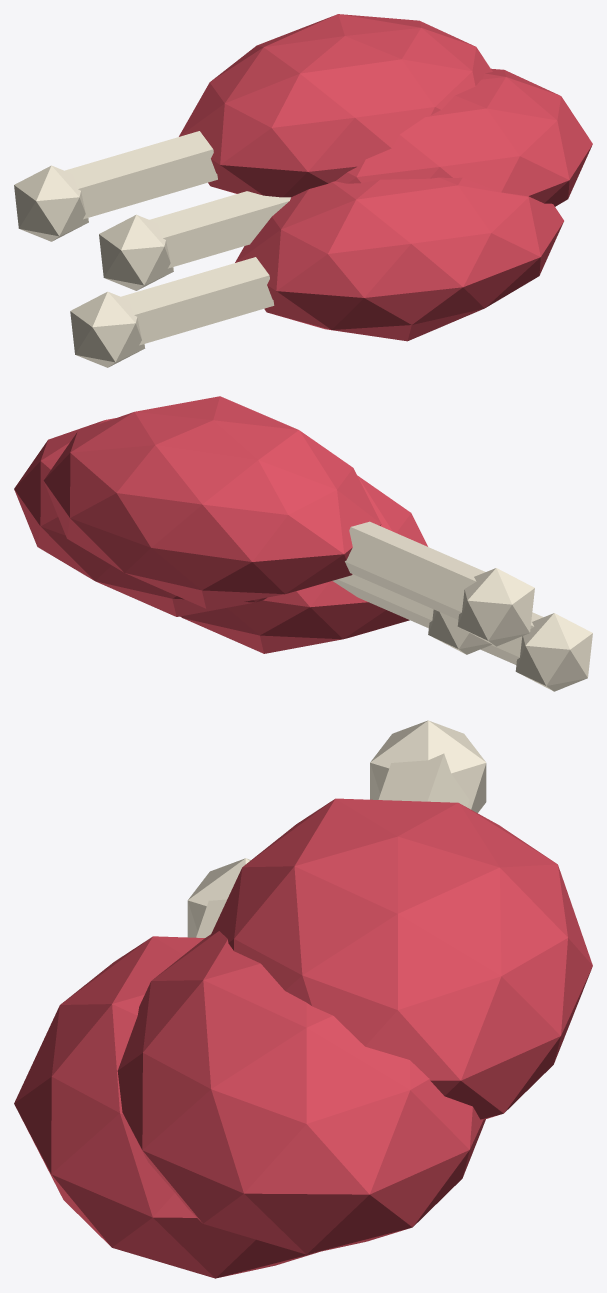
Rendered from item_022_roast_meat_m.glb.
The picture shows the model from 3 angles, top to bottom: view 1: azimuth 30°, elevation 25°; view 2: azimuth 150°, elevation 25°; view 3: azimuth 270°, elevation 25°; orthographic projection. The views are drawn at different scales.
Visible parts, largest first — view 1: item_022_roast_meat_m; view 2: item_022_roast_meat_m; view 3: item_022_roast_meat_m.
Part boxes in pixels (x1,y1,x2,y2): item_022_roast_meat_m: (14,14,592,367); item_022_roast_meat_m: (14,396,592,691); item_022_roast_meat_m: (14,720,592,1278).
Size of the model in its own units: 0.6391 by 0.2839 by 0.3809.
